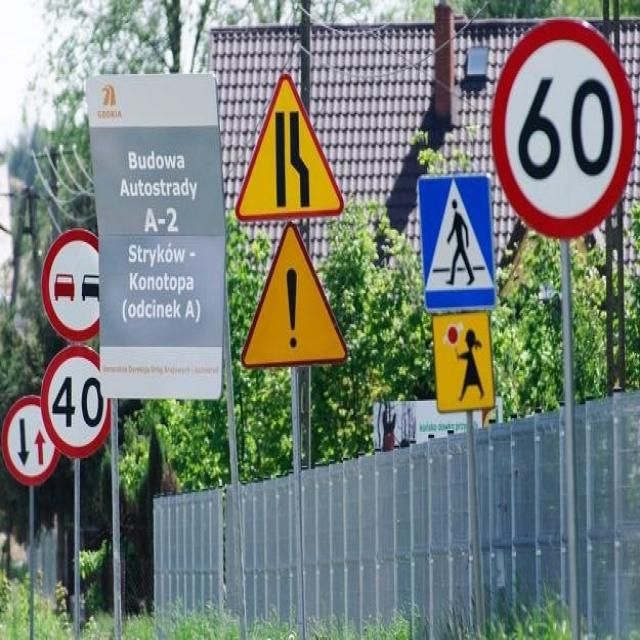Speed Limit -40-: (51, 374, 107, 430)
Speed Limit -60-: (518, 72, 617, 186)
